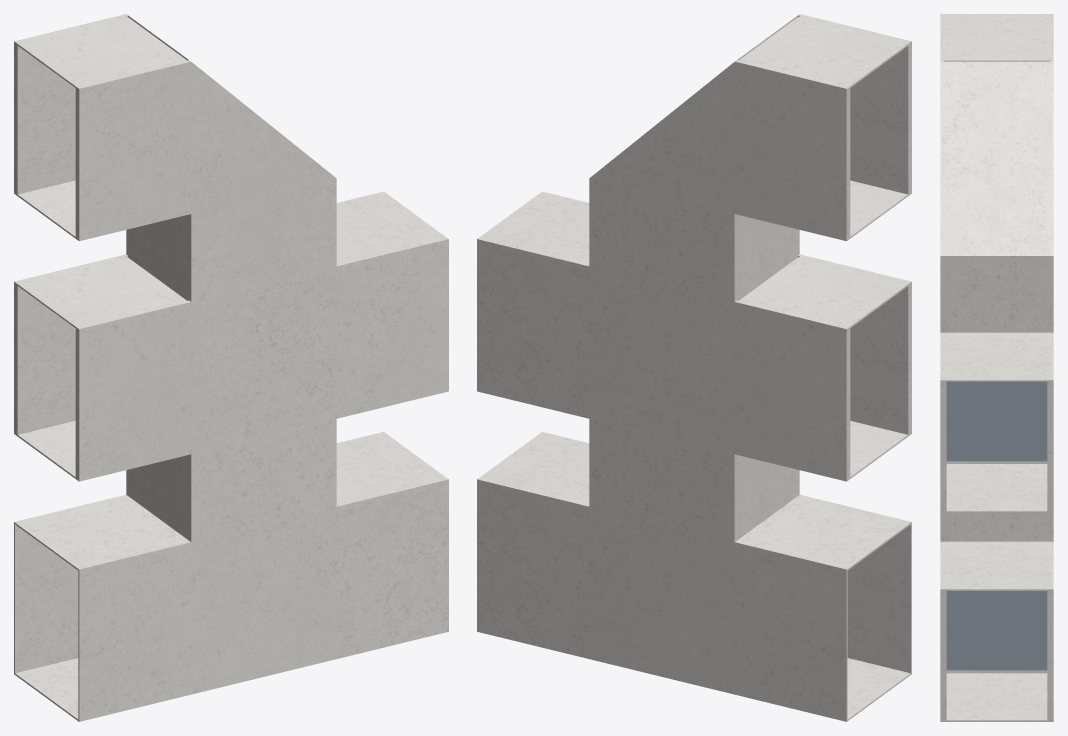
3 views of the same model, side by side, from view 1: azimuth 30°, elevation 25°; view 2: azimuth 150°, elevation 25°; view 3: azimuth 270°, elevation 25° (orthographic). The views are drawn at different scales.
Visible parts, largest first — view 1: G-Object.063, G-Object.004, G-Object.016, G-Object.045, G-Object.037, G-Object.066, G-Object.017, G-Object.046, G-Object.019, G-Object.048, G-Object.022, G-Object.051 (+1 smaller); view 2: G-Object.037, G-Object.008, G-Object.016, G-Object.045, G-Object.063, G-Object.066, G-Object.017, G-Object.046, G-Object.012, G-Object.041, G-Object.015, G-Object.044 (+1 smaller); view 3: G-Object.016, G-Object.045, G-Object.010, G-Object.039, G-Object.017, G-Object.046, G-Object.004, G-Object.008, G-Object.025, G-Object.030, G-Object.054, G-Object.059 (+2 smaller).
Part boxes in pixels (x1=…): G-Object.063: x1=78, y1=301, x2=448, y2=721; G-Object.004: x1=78, y1=61, x2=448, y2=418; G-Object.016: x1=15, y1=15, x2=447, y2=265; G-Object.045: x1=15, y1=255, x2=447, y2=505; G-Object.037: x1=14, y1=254, x2=384, y2=674; G-Object.066: x1=15, y1=495, x2=189, y2=570; G-Object.017: x1=15, y1=180, x2=190, y2=300; G-Object.046: x1=15, y1=421, x2=190, y2=541; G-Object.019: x1=15, y1=44, x2=45, y2=194; G-Object.048: x1=15, y1=284, x2=45, y2=434; G-Object.022: x1=45, y1=66, x2=73, y2=187; G-Object.051: x1=45, y1=307, x2=73, y2=427; G-Object.037: x1=477, y1=301, x2=847, y2=721; G-Object.008: x1=477, y1=61, x2=847, y2=418; G-Object.016: x1=478, y1=15, x2=910, y2=265; G-Object.045: x1=478, y1=255, x2=910, y2=505; G-Object.063: x1=541, y1=254, x2=911, y2=674; G-Object.066: x1=736, y1=495, x2=910, y2=570; G-Object.017: x1=735, y1=180, x2=910, y2=300; G-Object.046: x1=735, y1=421, x2=910, y2=541; G-Object.012: x1=880, y1=44, x2=910, y2=194; G-Object.041: x1=880, y1=284, x2=910, y2=434; G-Object.015: x1=852, y1=66, x2=880, y2=187; G-Object.044: x1=852, y1=307, x2=880, y2=427; G-Object.016: x1=942, y1=14, x2=1051, y2=381; G-Object.045: x1=942, y1=512, x2=1051, y2=590; G-Object.010: x1=946, y1=381, x2=1047, y2=461; G-Object.039: x1=946, y1=591, x2=1047, y2=670; G-Object.017: x1=942, y1=461, x2=1051, y2=512; G-Object.046: x1=942, y1=670, x2=1051, y2=721; G-Object.004: x1=940, y1=14, x2=941, y2=512; G-Object.008: x1=1052, y1=14, x2=1053, y2=512; G-Object.025: x1=942, y1=381, x2=946, y2=511; G-Object.030: x1=1047, y1=381, x2=1051, y2=511; G-Object.054: x1=942, y1=591, x2=946, y2=720; G-Object.059: x1=1047, y1=591, x2=1051, y2=720.
Size of the model in its own units: 0.66 by 1.08 by 0.2011.
Materials: 3 (2 with a texture image).
